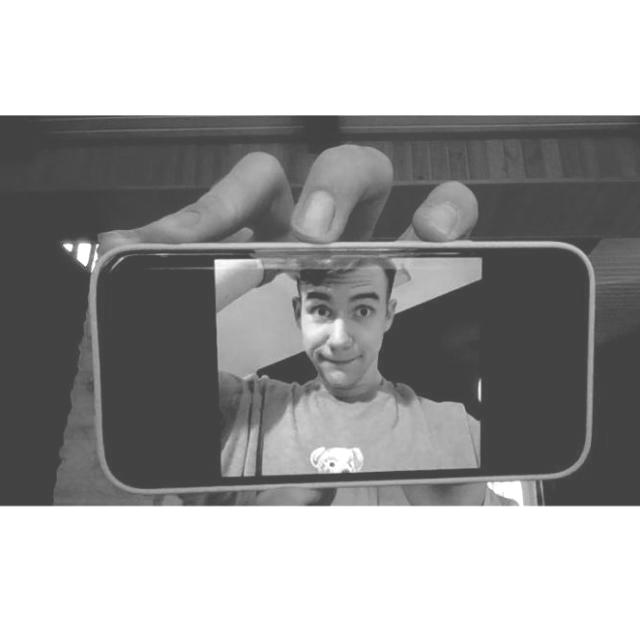fake: (94, 246, 592, 492)
